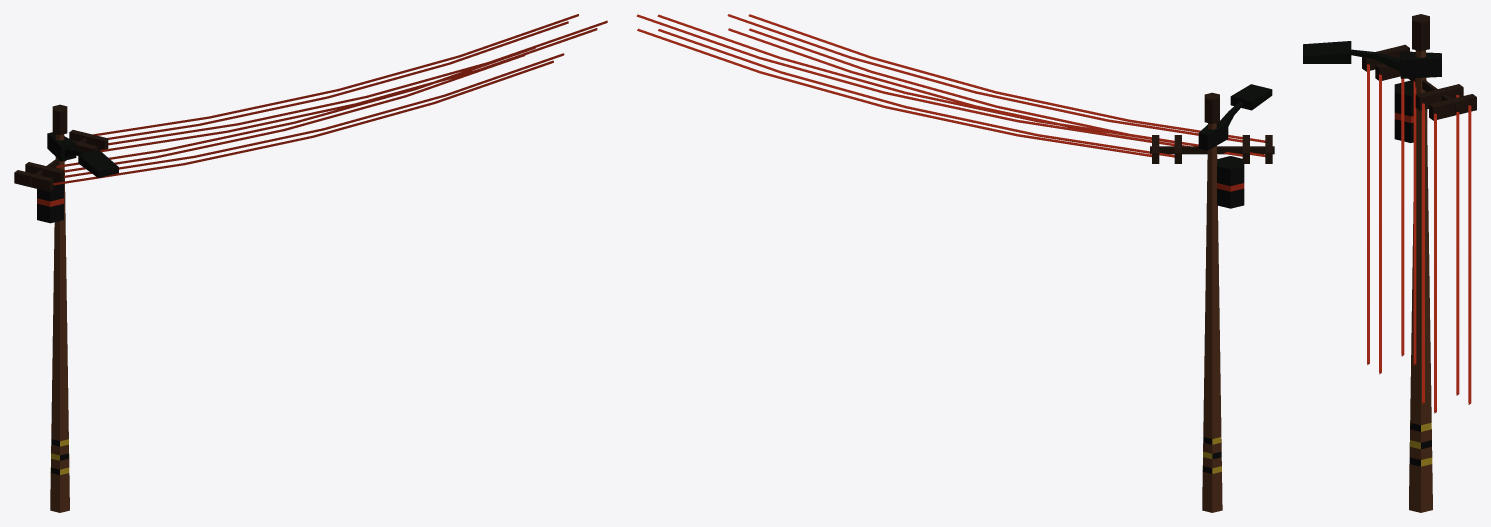
File: pole&cables.fbx
3 views of the same model, side by side, from view 1: azimuth 30°, elevation 25°; view 2: azimuth 150°, elevation 25°; view 3: azimuth 270°, elevation 25° (orthographic). The views are drawn at different scales.
Visible parts, largest first — view 1: pole (2); view 2: pole (2); view 3: pole (2).
Part boxes in pixels (x1,y1,x2,y2): pole (2): [14, 14, 607, 512]; pole (2): [636, 14, 1274, 512]; pole (2): [1303, 14, 1476, 512].
Bounding box in the file's own units: 1166 × 737 × 238.
